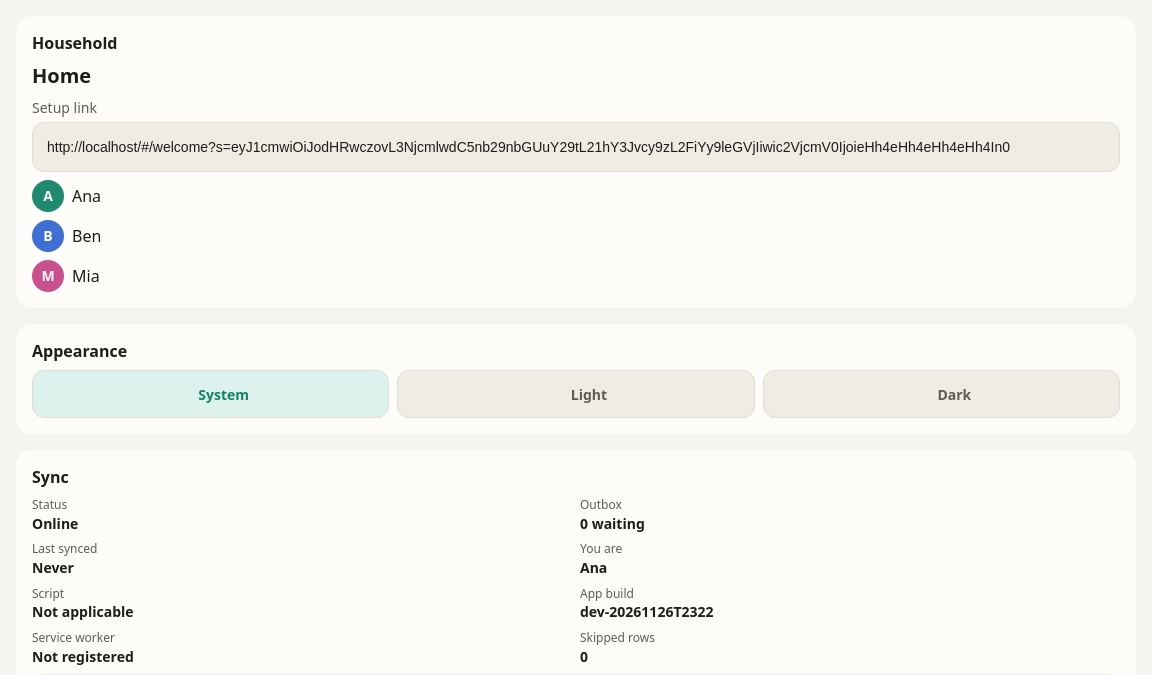
it: SettingsScreen: household › copies the setup link to the clipboard and shows a confirmation toast
Click the button with test id "copy-link": (1091, 147) [1067,123,1115,171]
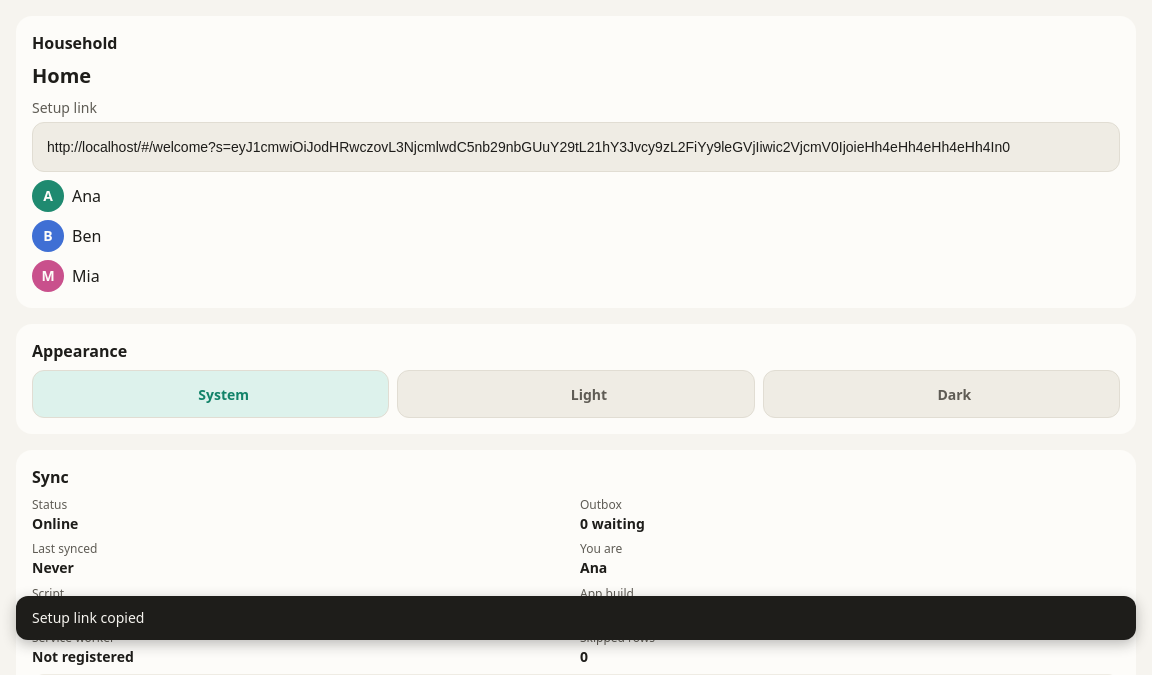
Expected: the text "Setup link copied" is shown, [32,608,144,628]
